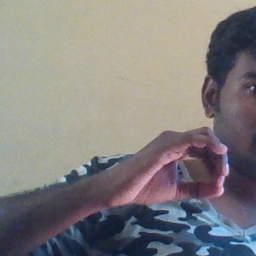O: (99, 123, 233, 211)
